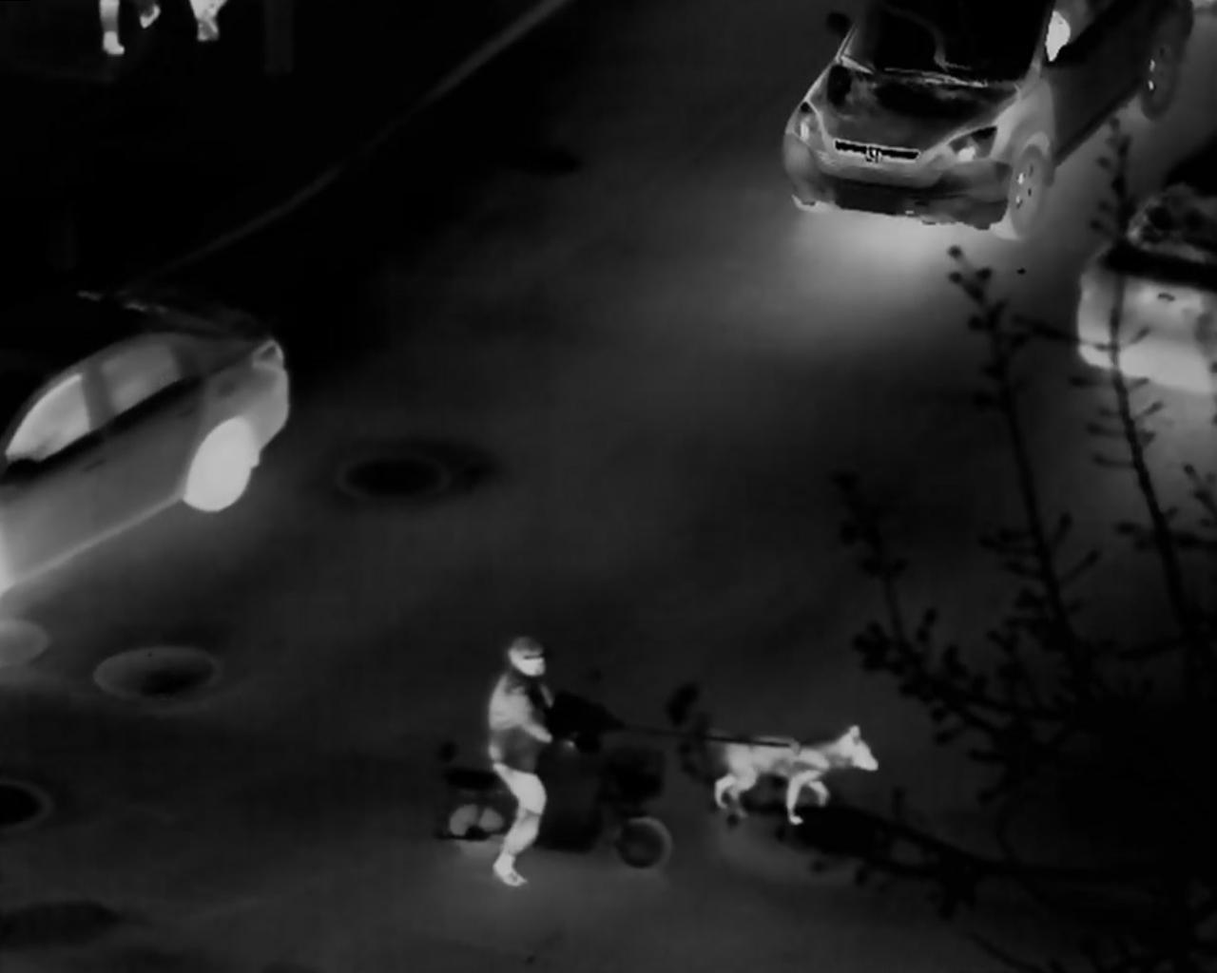person: (484, 624, 571, 874)
